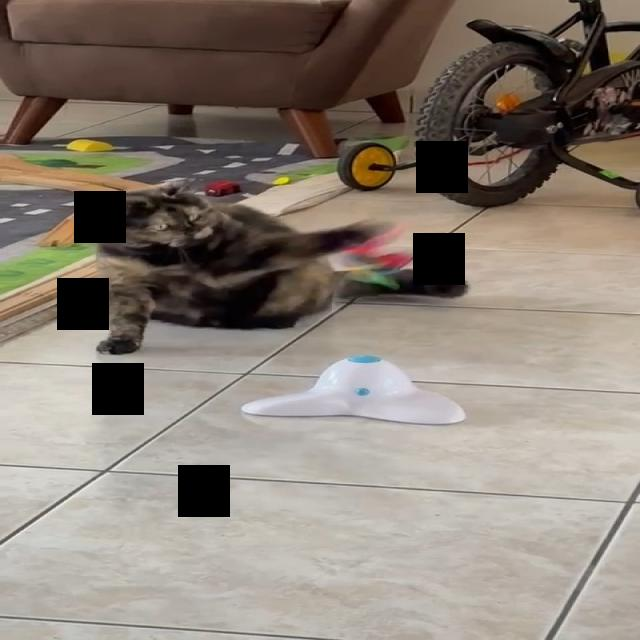authorized: (89, 177, 468, 356)
